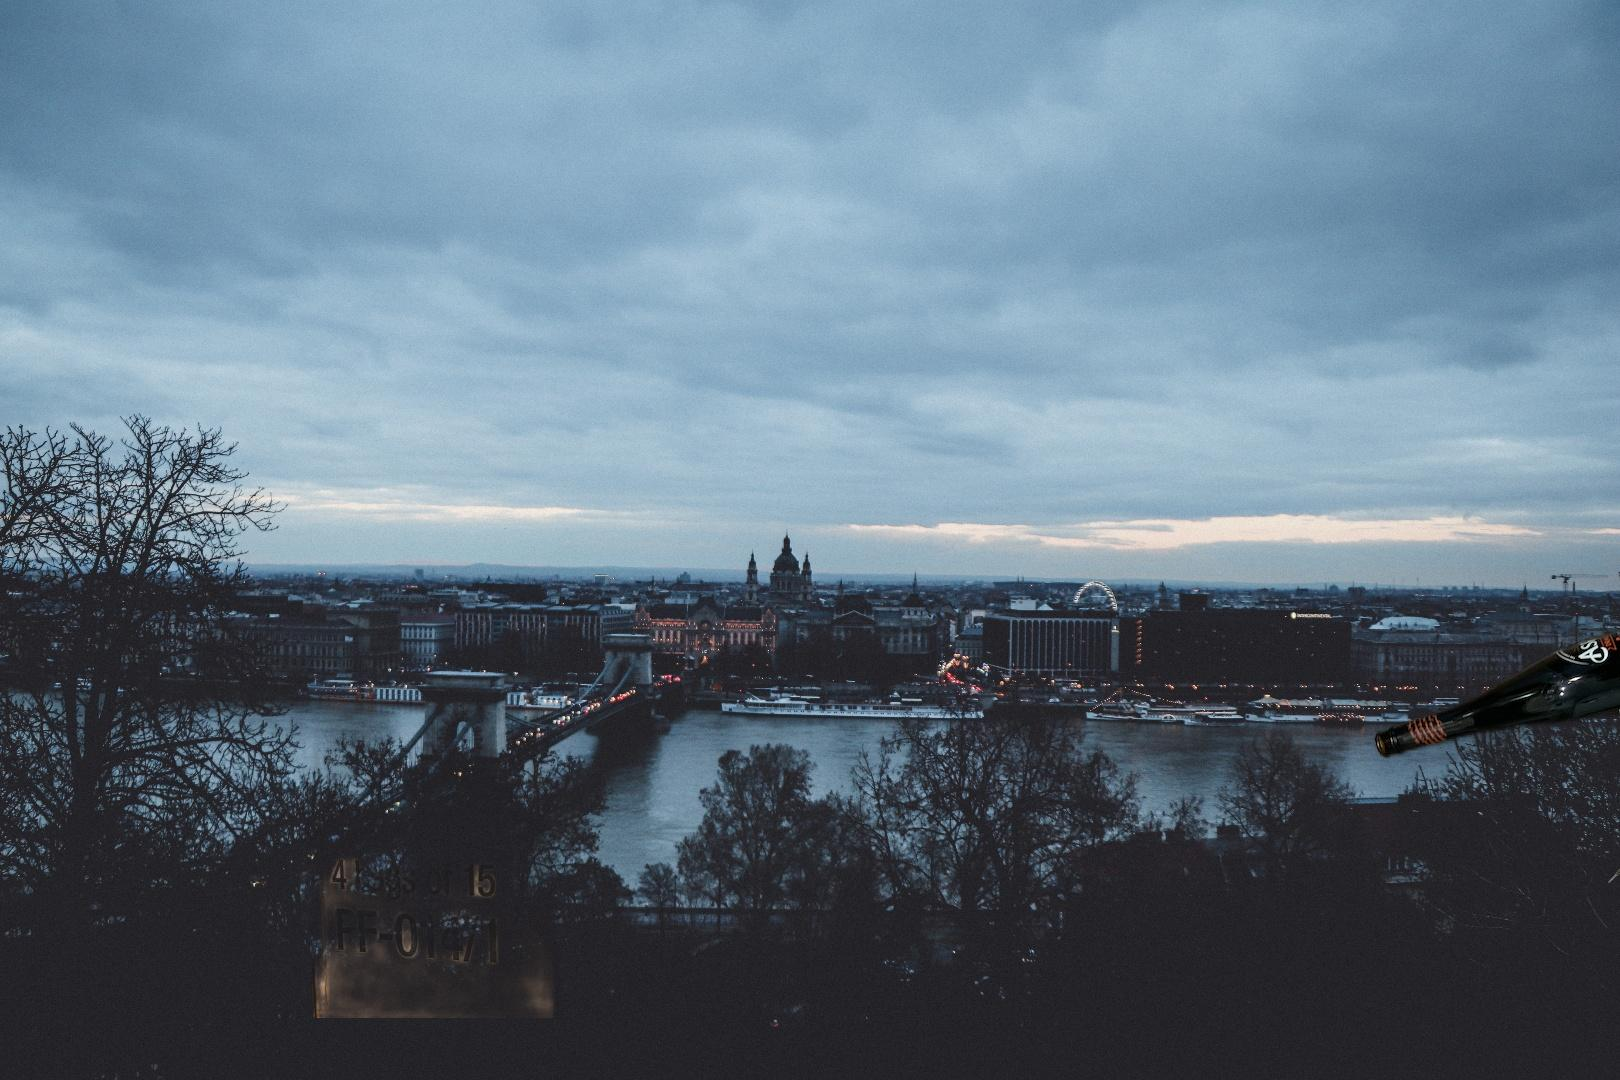glass: (1370, 611, 1620, 839)
shoes: (1606, 759, 1620, 920)
trashbox-cardboard: (272, 634, 783, 1019)
